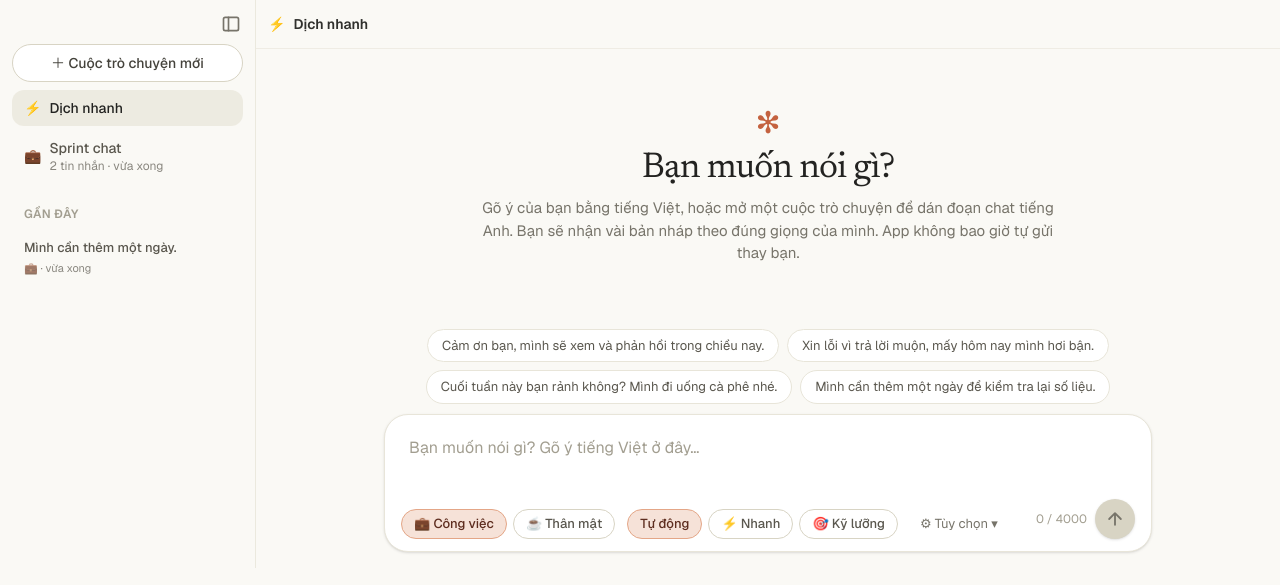
ReplyWorkspace › lists recent replies in the side bar and shows one when it is picked
Click the button "Mình cần thêm một ngày. 💼 · vừa xong".
click(128, 257)  # box [12, 230, 243, 284]
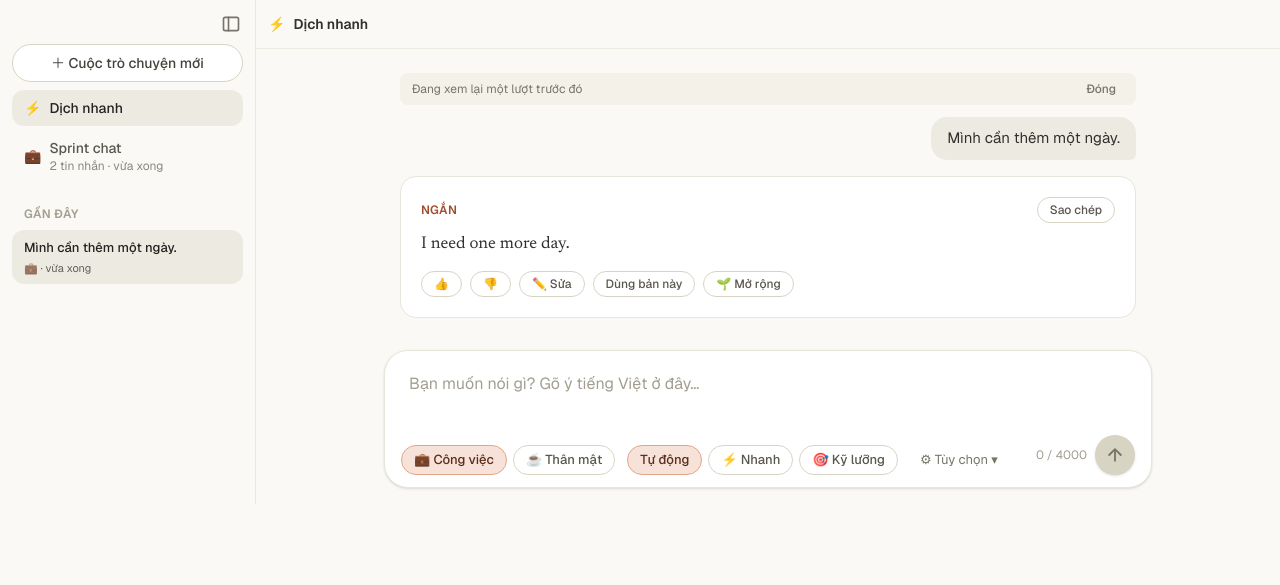
Check: the text "I need one more day." is shown, box [421, 236, 570, 252]
Check: the 1st text "Mình cần thêm một ngày." is shown, box [947, 127, 1120, 150]
Click the button "Đóng".
click(1101, 89)  # box [1078, 79, 1124, 99]
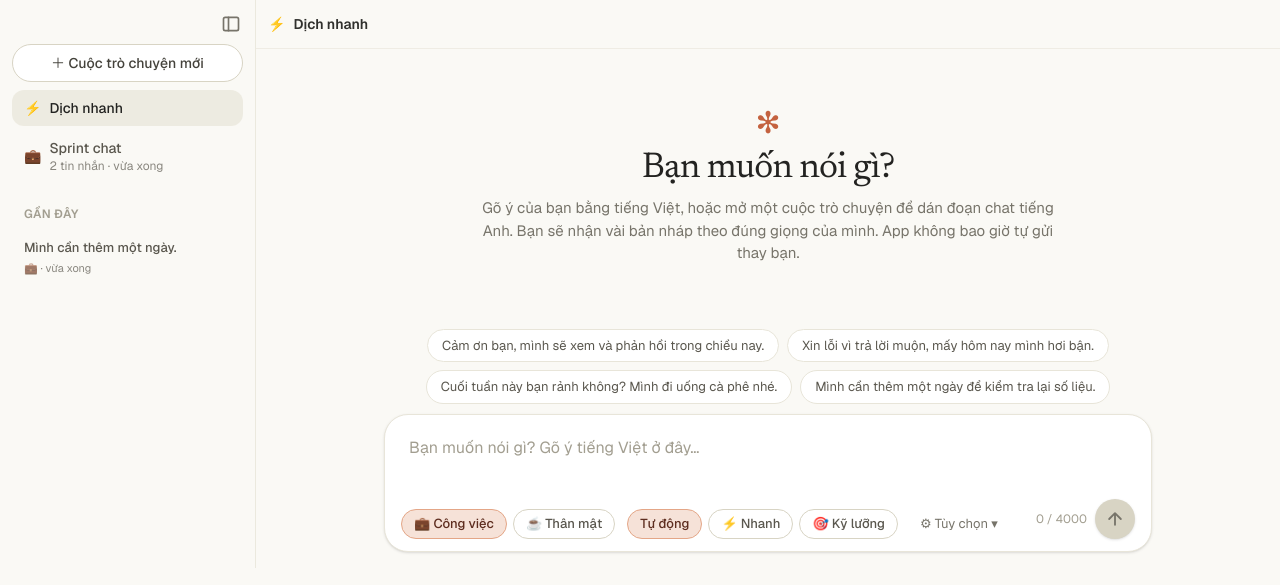
Check: the text "I need one more day." is gone
